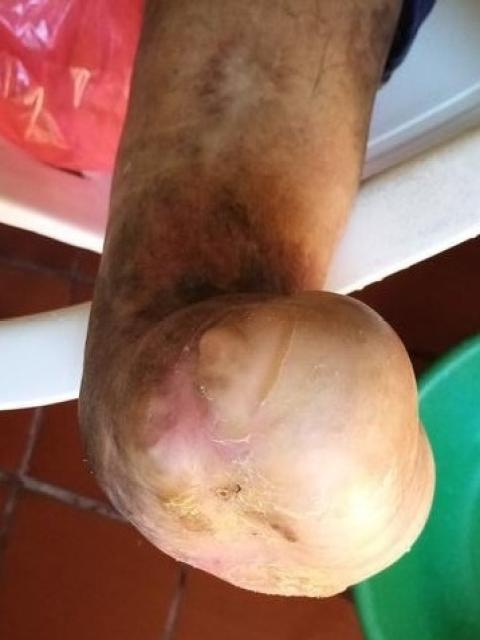wound: (140, 339, 258, 491)
